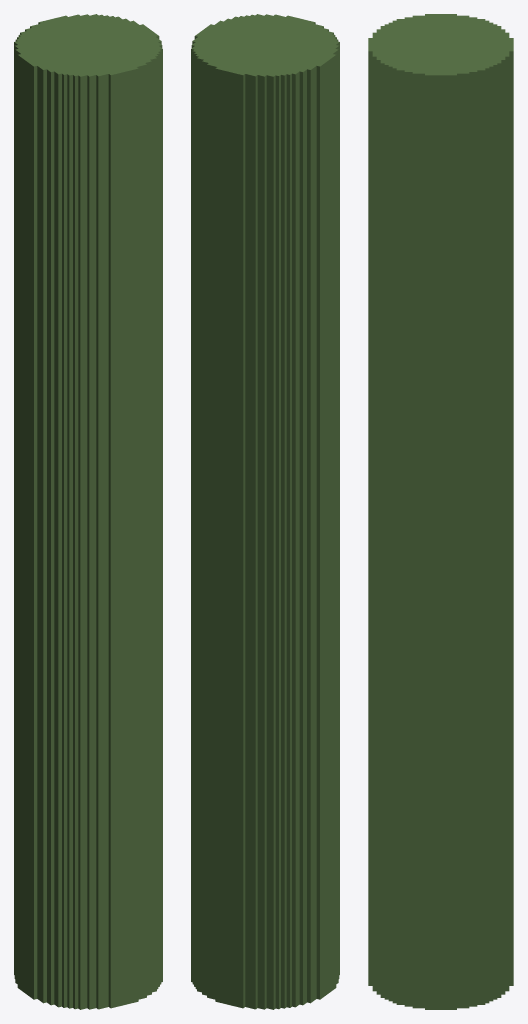
The model's file is forest1.1-107.obj.
3 views of the same model, side by side, from view 1: azimuth 30°, elevation 25°; view 2: azimuth 150°, elevation 25°; view 3: azimuth 270°, elevation 25° (orthographic).
Size of the model in its own units: 3.6 by 25.6 by 3.6.
Materials: 1 (1 with a texture image).
